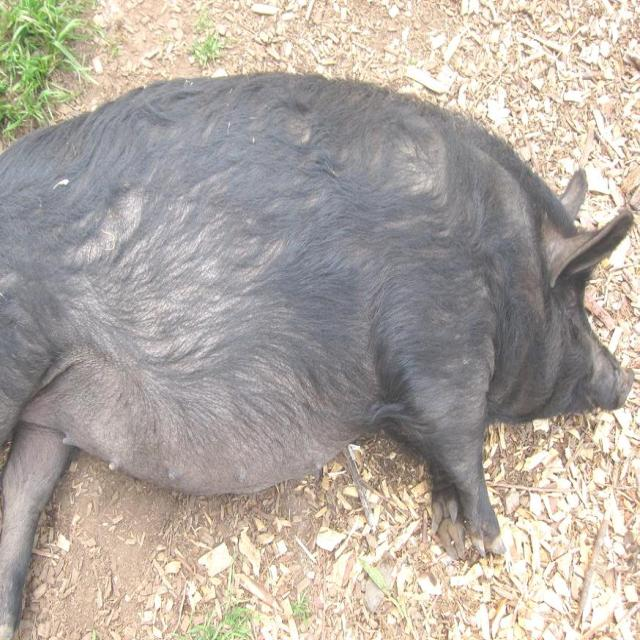pig: (0, 73, 632, 637)
